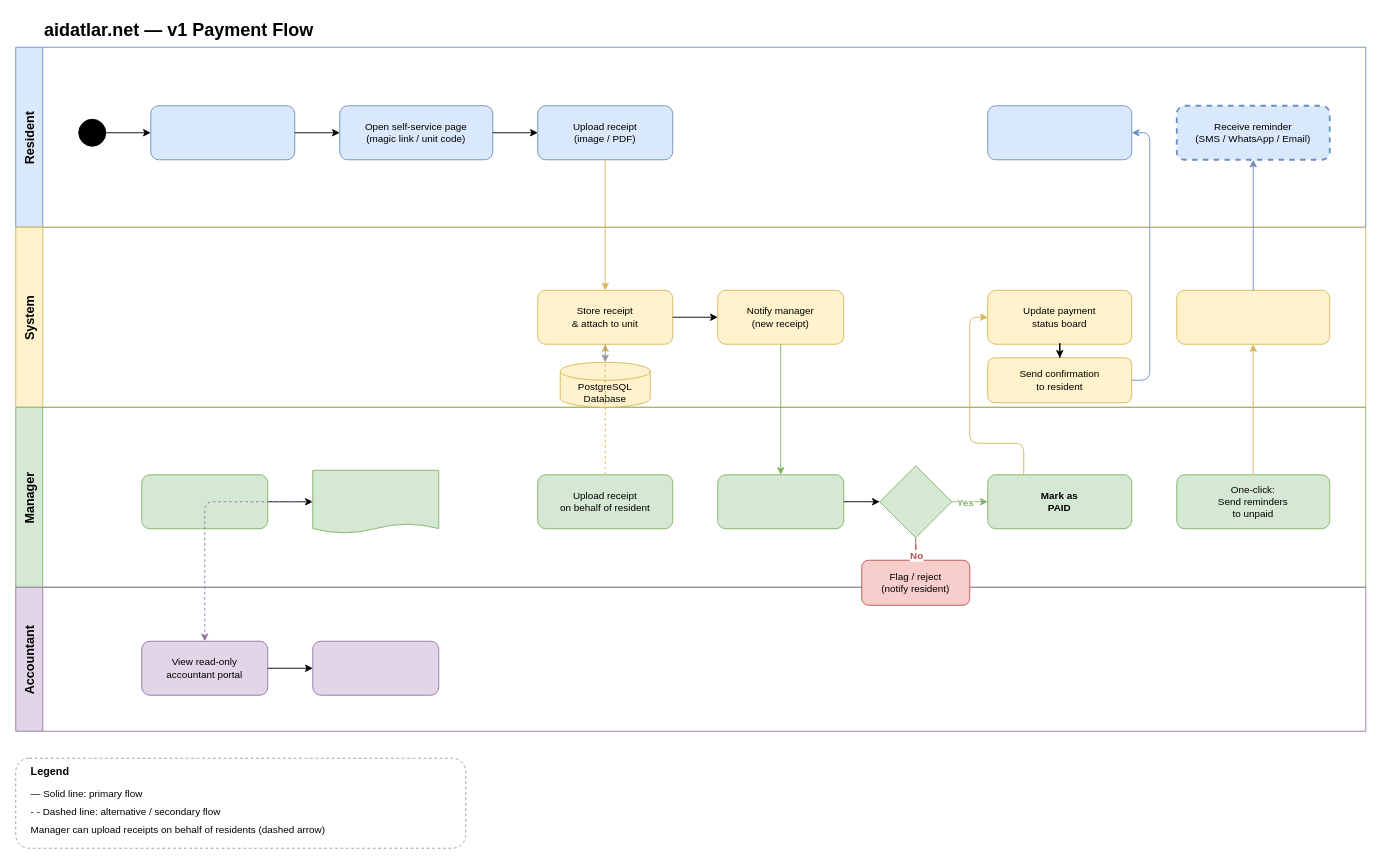
Some shapes in this 1382 by 864 pixel diagram are drawn without their labels. Here are the shapes that lost their labels. From the top down, the centre of each, then its label:
point 222,132: Pay maintenance fee via bank transfer
point 1059,132: Receive payment confirmation email
point 1253,316: Send bulk reminders to unpaid residents
point 204,501: Generate month-end report (PDF / Excel)
point 375,501: Monthly Report PDF / Excel
point 780,501: Review receipt on dashboard
point 915,501: Approve?
point 375,667: Export financial data & reports
